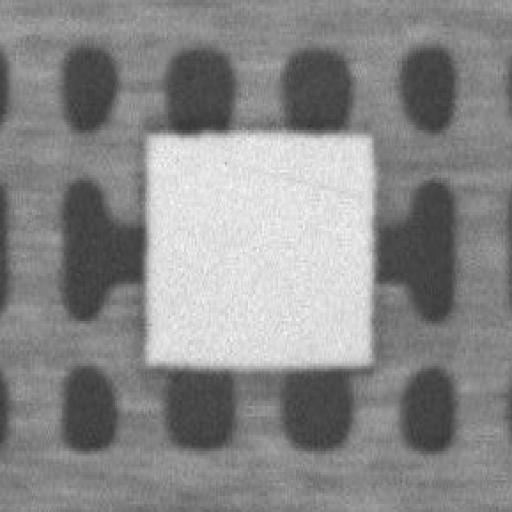DIE_CRACK: (331, 106, 512, 130)
